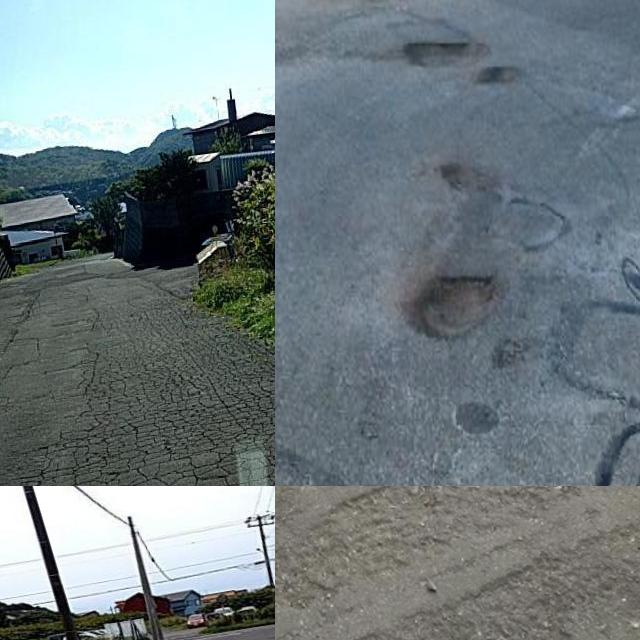Lubang: (415, 270, 510, 342), (397, 39, 488, 71)
Retak Buaya: (47, 296, 275, 486)
